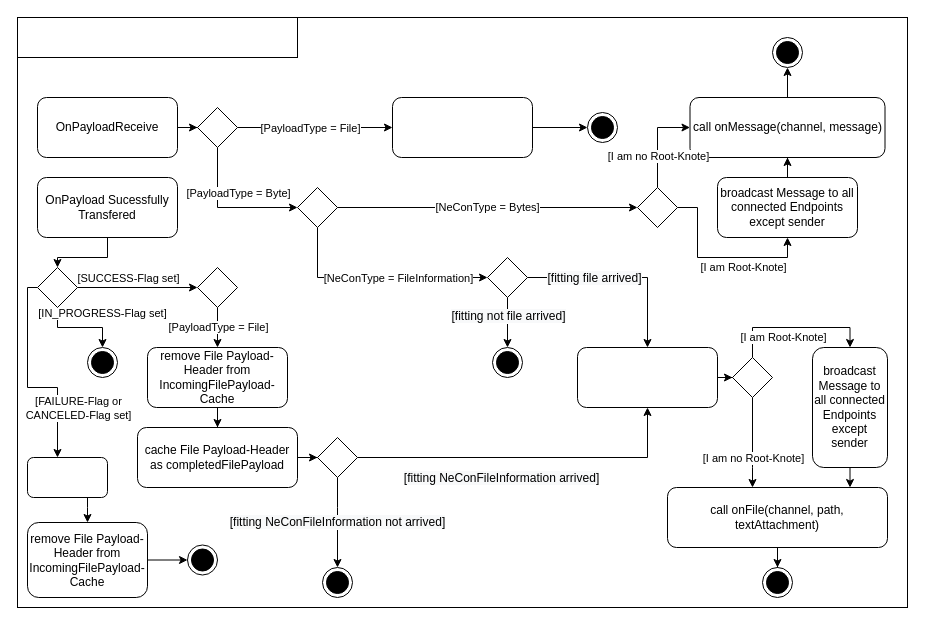
Some shapes in this 925 by 625 pixel diagram are drawn without their labels. The centre of each missing label's shape, as x and y in pixels:
"cache Payload-Header as IncomingFilePayload" belongs at (462,127).
"Delete File-fragments" belongs at (67,477).
"NearbyConnection PayloadReceiving process" belongs at (157,37).
"rename file" belongs at (647,377).
